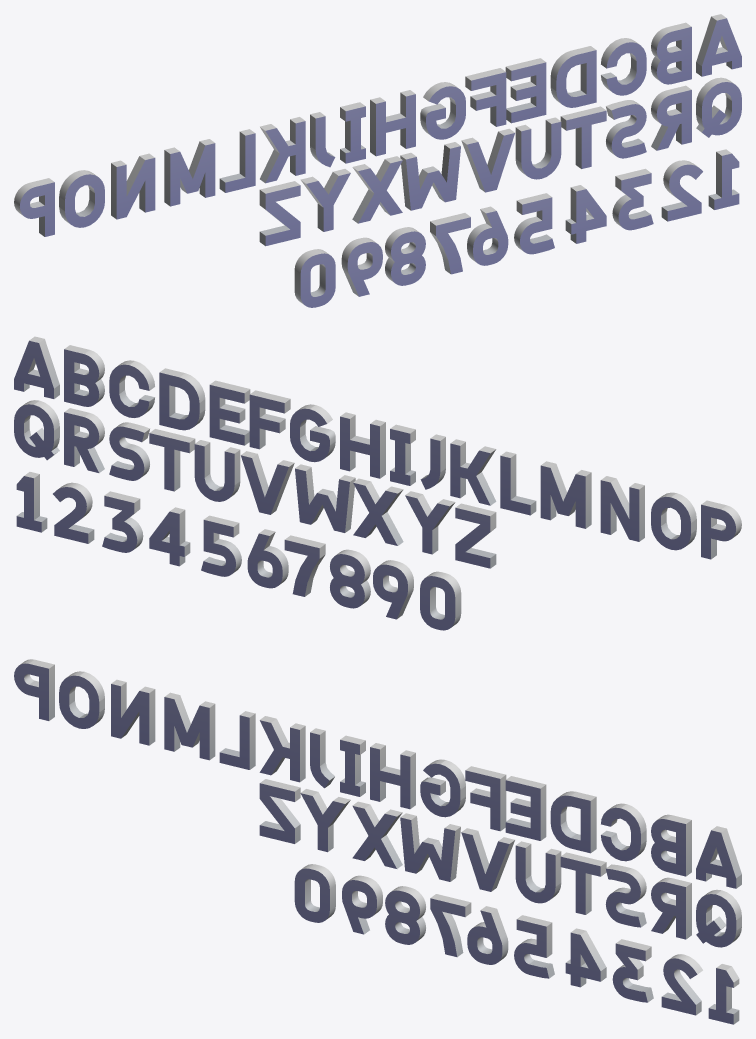
File: studio-letters.glb
3 renders of one model, top to bottom at view 1: azimuth 30°, elevation 25°; view 2: azimuth 150°, elevation 25°; view 3: azimuth 330°, elevation 25°, orthographic.
Parts seen in each view (by area): view 1: letter-m, letter-w, letter-n, letter-d, letter-b, letter-e, letter-r, letter-q, letter-h, number-8, letter-k, letter-g (+24 smaller); view 2: letter-m, letter-w, letter-n, letter-d, letter-b, letter-e, letter-r, letter-q, letter-h, number-8, letter-k, letter-g (+24 smaller); view 3: letter-m, letter-w, letter-n, letter-d, letter-b, letter-e, letter-h, letter-q, number-8, letter-z, letter-r, letter-g (+24 smaller).
Boxes of the visible parts, x1,y1,x2,y2 form: letter-m: (164,139,215,206); letter-w: (400,142,460,210); letter-n: (111,153,155,219); letter-d: (550,46,596,107); letter-b: (651,22,691,84); letter-e: (505,58,546,123); letter-r: (651,85,691,150); letter-q: (696,77,741,137); letter-h: (370,90,415,156); number-8: (385,227,425,285); letter-k: (260,117,305,183); letter-g: (420,82,465,139); letter-m: (540,461,591,528); letter-w: (295,464,355,532); letter-n: (600,476,644,541); letter-d: (159,368,205,430); letter-b: (64,345,104,406); letter-e: (209,380,250,445); letter-r: (64,408,104,472); letter-q: (14,400,59,460); letter-h: (340,412,385,478); number-8: (330,549,370,608); letter-k: (450,439,496,505); letter-g: (290,404,335,462); letter-m: (164,692,215,760); letter-w: (400,813,460,881); letter-n: (111,679,155,745); letter-d: (550,791,596,853); letter-b: (651,814,691,876); letter-e: (505,776,546,840); letter-h: (370,743,415,809); letter-q: (696,889,741,947); number-8: (385,886,425,944); letter-z: (259,779,300,843); letter-r: (651,877,691,939); letter-g: (420,759,465,817).
Bounding box in the file's own units: 7.2 × 1.8 × 0.1039.
